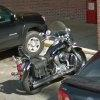Motorcycle: (10, 19, 86, 96)
